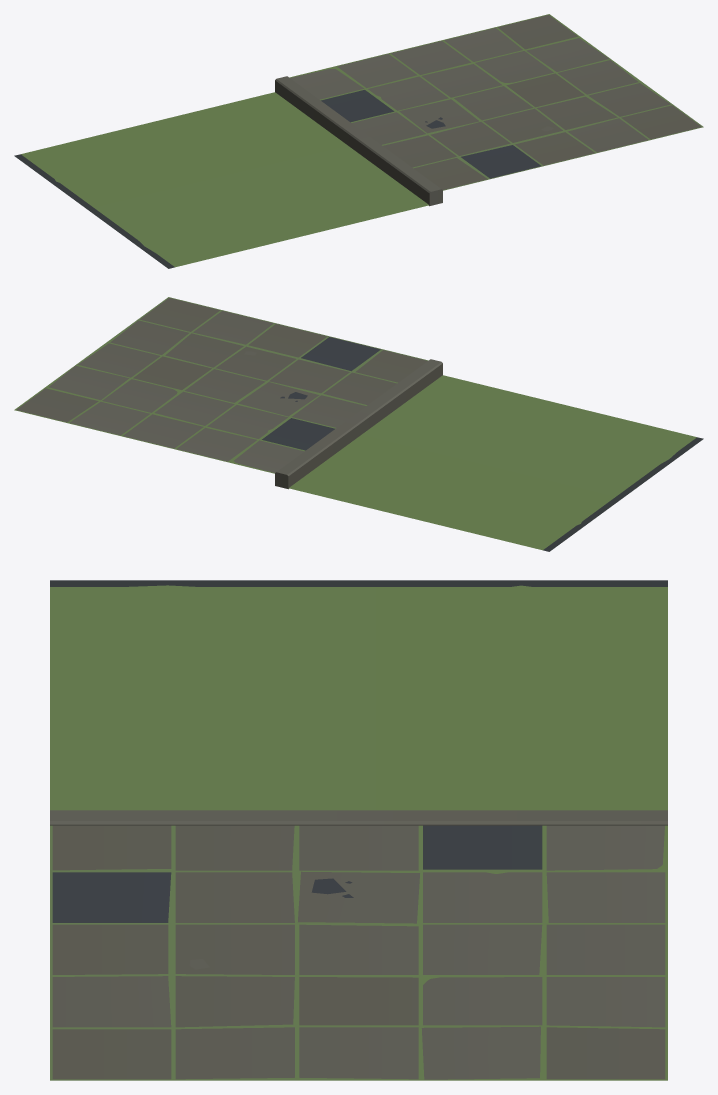
File: Road_15.fbx
3 views of the same model, one above another, from view 1: azimuth 30°, elevation 25°; view 2: azimuth 150°, elevation 25°; view 3: azimuth 270°, elevation 25° (orthographic). The views are drawn at different scales.
Parts seen in each view (by area): view 1: Road_15; view 2: Road_15; view 3: Road_15.
Part boxes in pixels (bbox=[...]): Road_15: bbox=[14, 14, 703, 268]; Road_15: bbox=[14, 297, 703, 551]; Road_15: bbox=[50, 580, 667, 1080].
Bounding box in the file's own units: 6 × 0.15 × 3.
